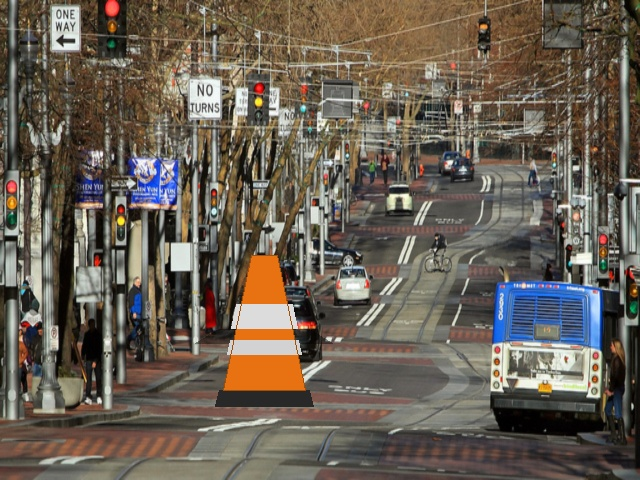traffic-cone: (215, 255, 313, 406)
